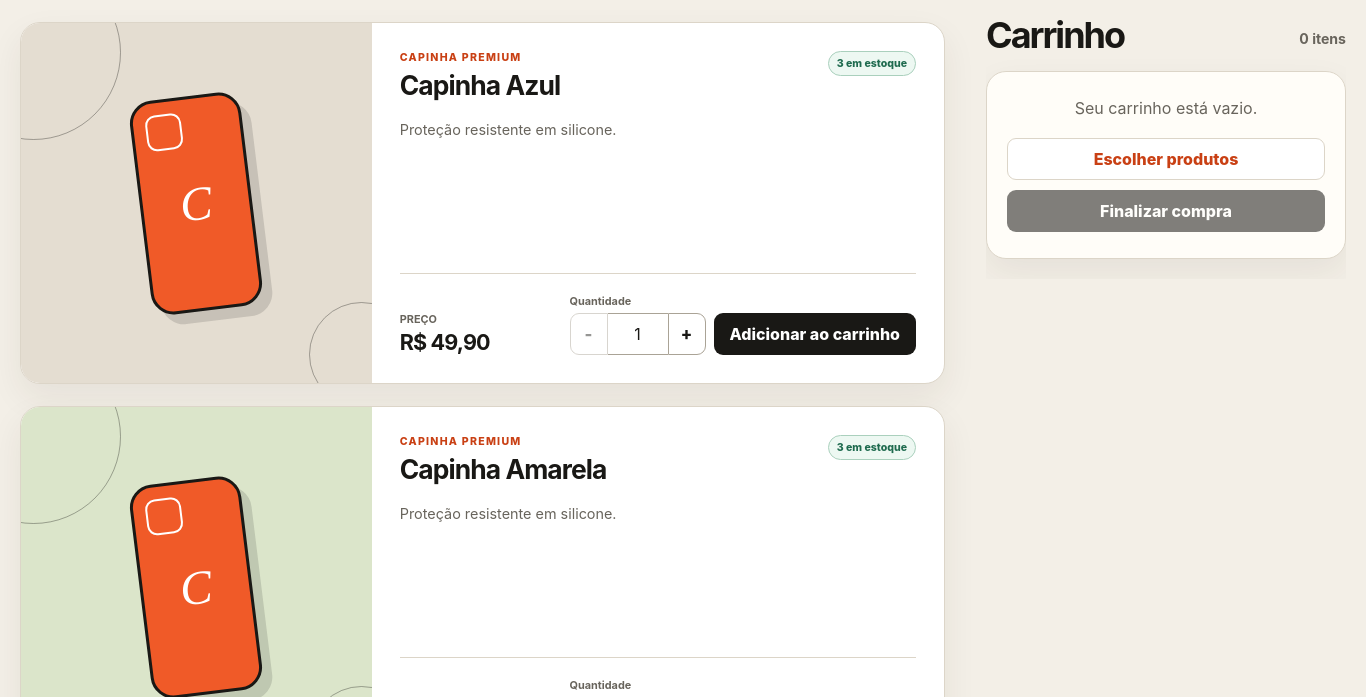
Test: vitrine CaseCellShop › envia todos os itens em uma única requisição canônica
(page scrolled)
What coordinates should you click on to do the following:
click the button "Adicionar ao carrinho" in the row of "R$ 49,90"
I would click on:
 (815, 334)
Its box is [714,313,916,355].
(page scrolled)
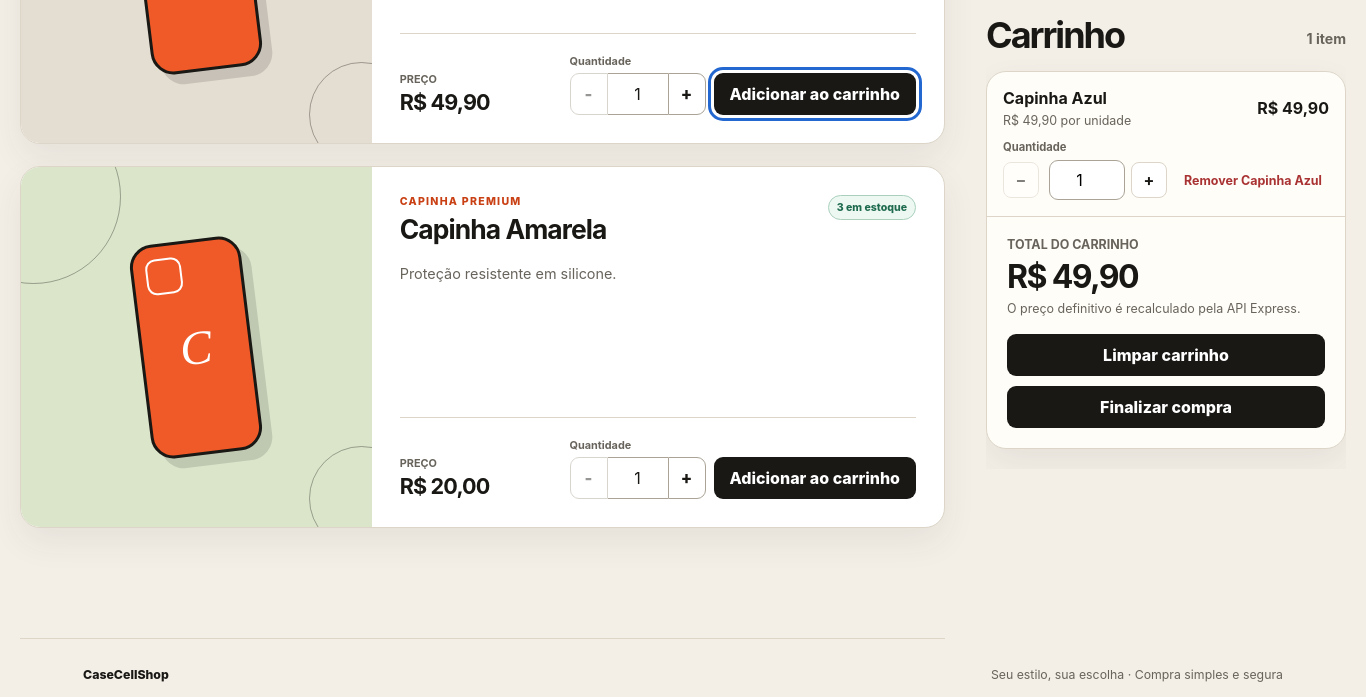
What coordinates should you click on to do the following:
click the button "Adicionar ao carrinho" in the row of "R$ 20,00"
I would click on:
 (815, 478)
Its box is [714,457,916,499].
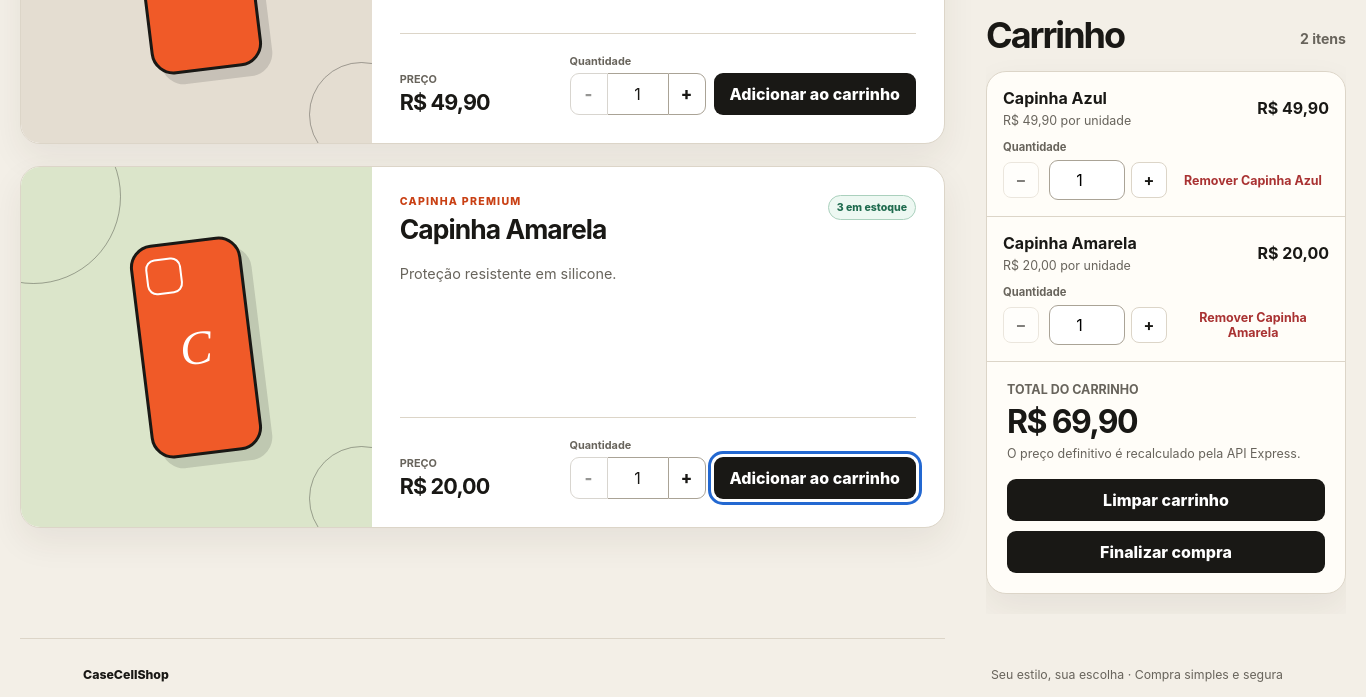
What coordinates should you click on to do the following:
click the button "Finalizar compra"
I would click on:
 (1166, 552)
Its box is [1007,531,1325,573].
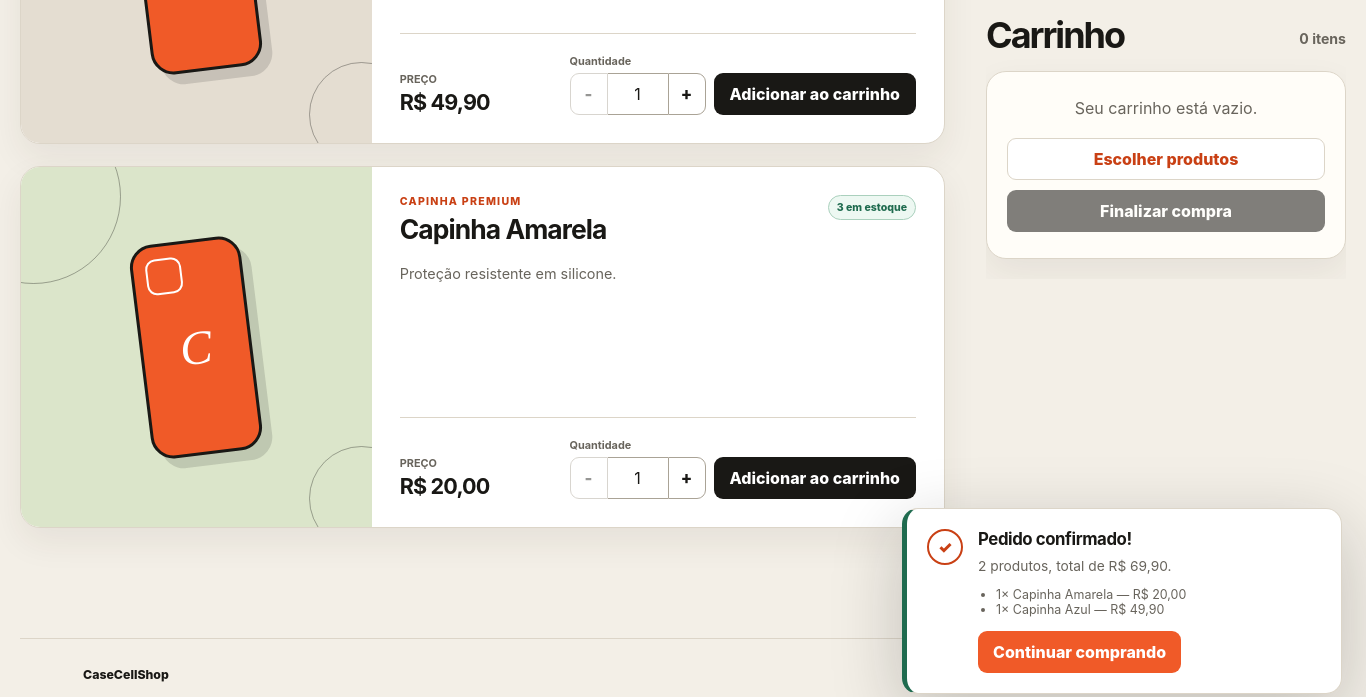
Expected: the list item "1× Capinha Amarela — R$ 20,00" is shown, [996,587,1186,602]
